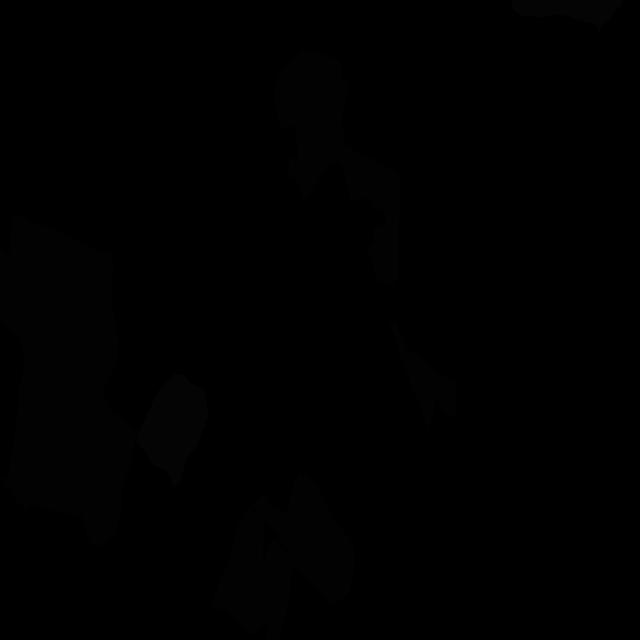cardboard: (0, 214, 139, 547), (274, 51, 400, 286), (252, 472, 355, 604), (212, 508, 292, 640), (389, 321, 442, 431), (436, 377, 458, 419)
soft_plastic: (136, 374, 208, 487), (510, 0, 624, 36)
